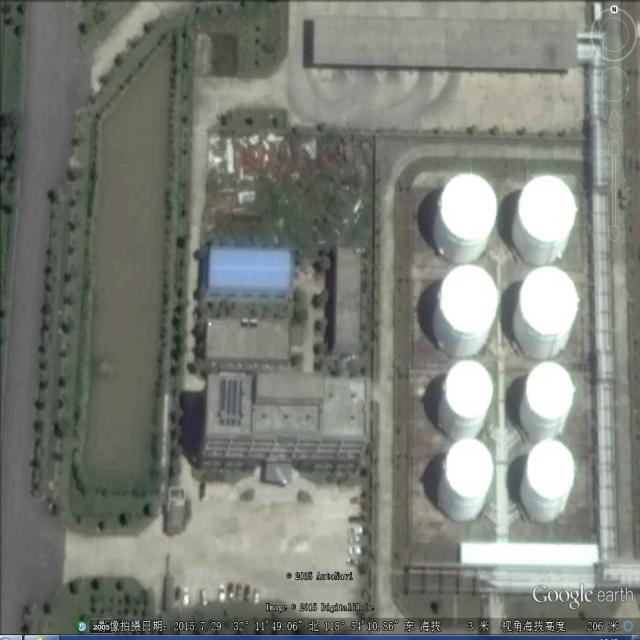oiltank: (511, 263, 582, 363), (510, 170, 580, 268), (433, 170, 502, 264), (433, 266, 501, 358), (519, 439, 580, 529), (436, 436, 495, 526), (433, 359, 498, 440), (518, 359, 578, 444)
